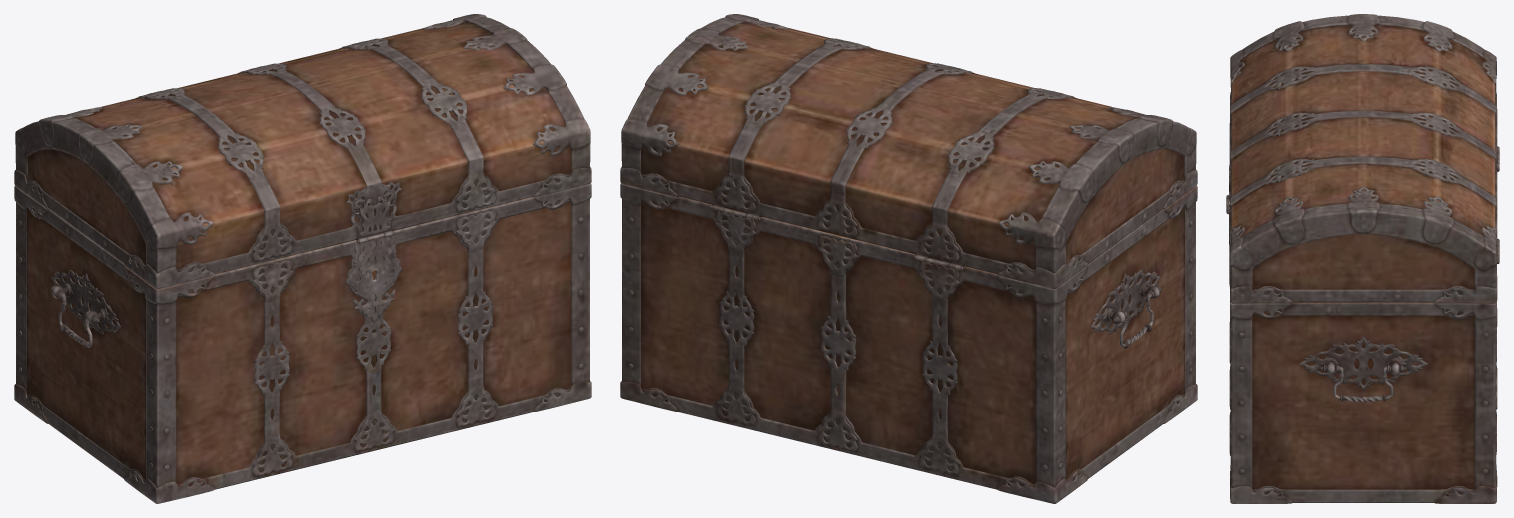
File: treasure_chest.glb
3 renders of one model, left to right at view 1: azimuth 30°, elevation 25°; view 2: azimuth 150°, elevation 25°; view 3: azimuth 270°, elevation 25°, orthographic. The views are drawn at different scales.
Parts seen in each view (by area): view 1: treasure_chest_bottom, treasure_chest_lid, treasure_chest_lock; view 2: treasure_chest_bottom, treasure_chest_lid; view 3: treasure_chest_lid, treasure_chest_bottom, treasure_chest_handle_right.
Boxes of the visible parts, <box> form: treasure_chest_bottom: <box>14,183,591,503</box>; treasure_chest_lid: <box>14,14,591,288</box>; treasure_chest_lock: <box>349,233,399,322</box>; treasure_chest_bottom: <box>620,183,1197,503</box>; treasure_chest_lid: <box>620,14,1197,288</box>; treasure_chest_lid: <box>1226,14,1499,303</box>; treasure_chest_bottom: <box>1229,152,1499,503</box>; treasure_chest_handle_right: <box>1320,365,1406,402</box>.
Bounding box in the file's own units: 0.959 × 0.6189 × 0.5229.
1 material, 1 textured.
